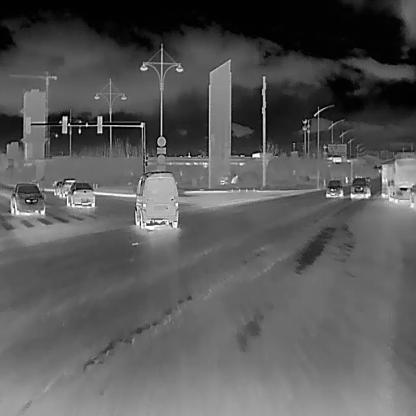car: (134, 170, 178, 227), (388, 158, 416, 202), (9, 181, 45, 213), (67, 180, 95, 206), (350, 175, 369, 198), (325, 178, 343, 197), (61, 177, 72, 195)
